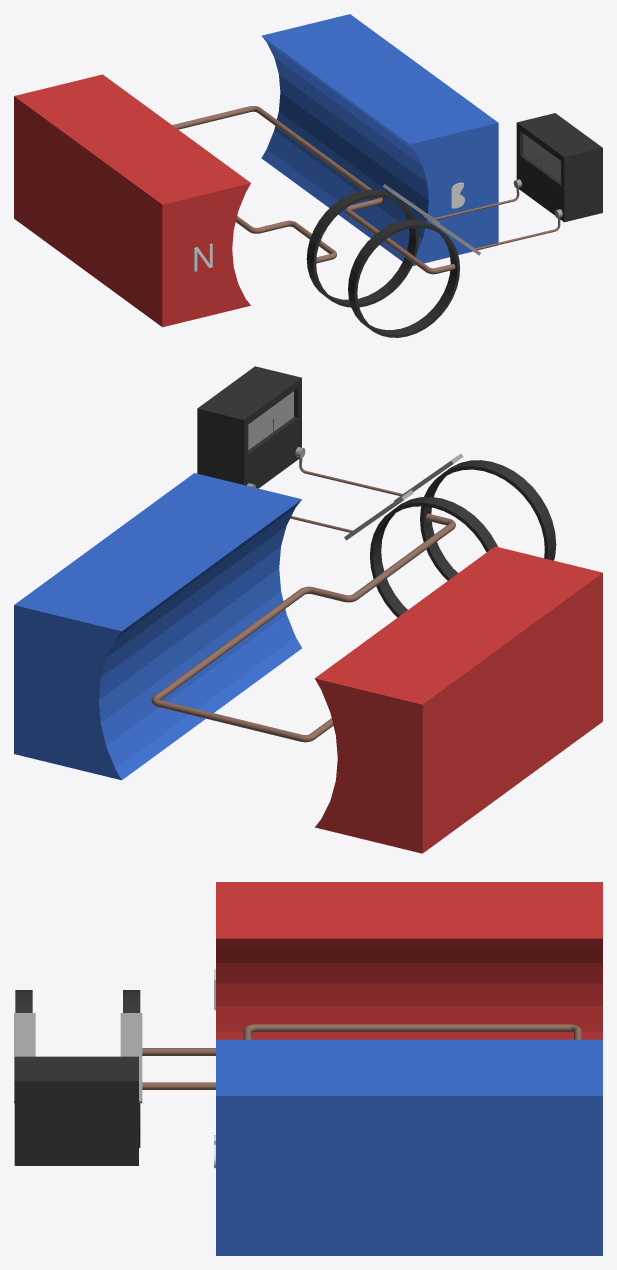
The model's file is ACgen.fbx.
The picture shows the model from 3 angles, top to bottom: view 1: azimuth 30°, elevation 25°; view 2: azimuth 150°, elevation 25°; view 3: azimuth 270°, elevation 25°; orthographic projection. The views are drawn at different scales.
Visible parts, largest first — view 1: N_3, S_3, Cube_2, Sweep, Tube_1, Tube, Sweep_1; view 2: N_3, S_3, Cube_2, Sweep, Tube_1, Tube; view 3: S_3, N_3, Cube_2, Sweep, Cube, Cube_1, Tube.
Part boxes in pixels (<box>): N_3: <box>14,74,250,327</box>; S_3: <box>261,14,498,266</box>; Cube_2: <box>516,113,602,222</box>; Sweep: <box>172,106,455,274</box>; Tube_1: <box>348,220,459,337</box>; Tube: <box>306,189,418,307</box>; Sweep_1: <box>434,188,560,249</box>; N_3: <box>315,546,602,853</box>; S_3: <box>14,473,301,780</box>; Cube_2: <box>197,366,301,488</box>; Sweep: <box>151,513,455,742</box>; Tube_1: <box>420,460,556,580</box>; Tube: <box>370,497,497,617</box>; S_3: <box>216,1039,602,1255</box>; N_3: <box>216,882,602,1039</box>; Cube_2: <box>14,1056,138,1165</box>; Sweep: <box>142,1024,581,1089</box>; Cube: <box>120,1013,142,1103</box>; Cube_1: <box>14,1013,35,1103</box>; Tube: <box>123,990,140,1147</box>.
Size of the model in its own units: 283 by 109 by 304.
